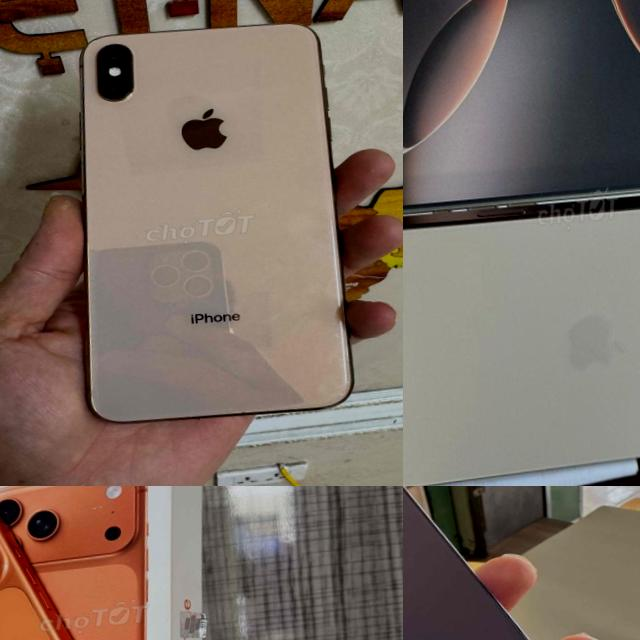scratch: (316, 373, 361, 403), (327, 328, 348, 346)
